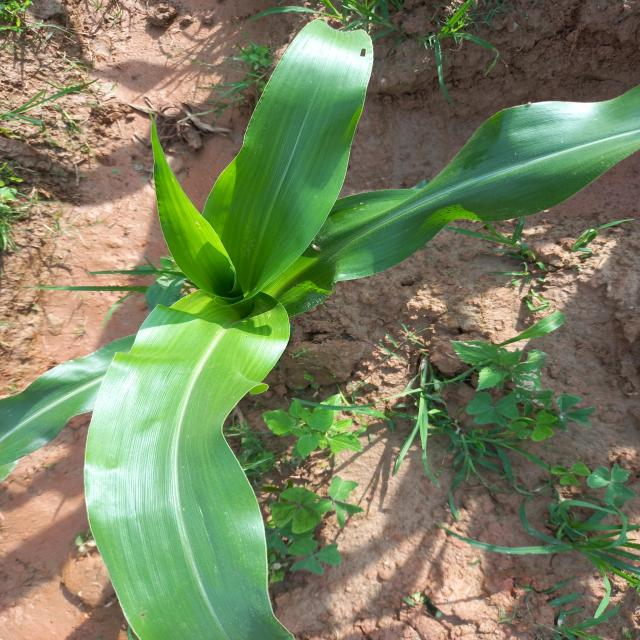maize: (28, 37, 414, 640)
weed: (5, 0, 108, 274), (371, 338, 585, 466), (491, 461, 640, 612), (254, 468, 377, 577), (393, 8, 522, 77), (264, 383, 376, 462), (276, 0, 404, 36)
